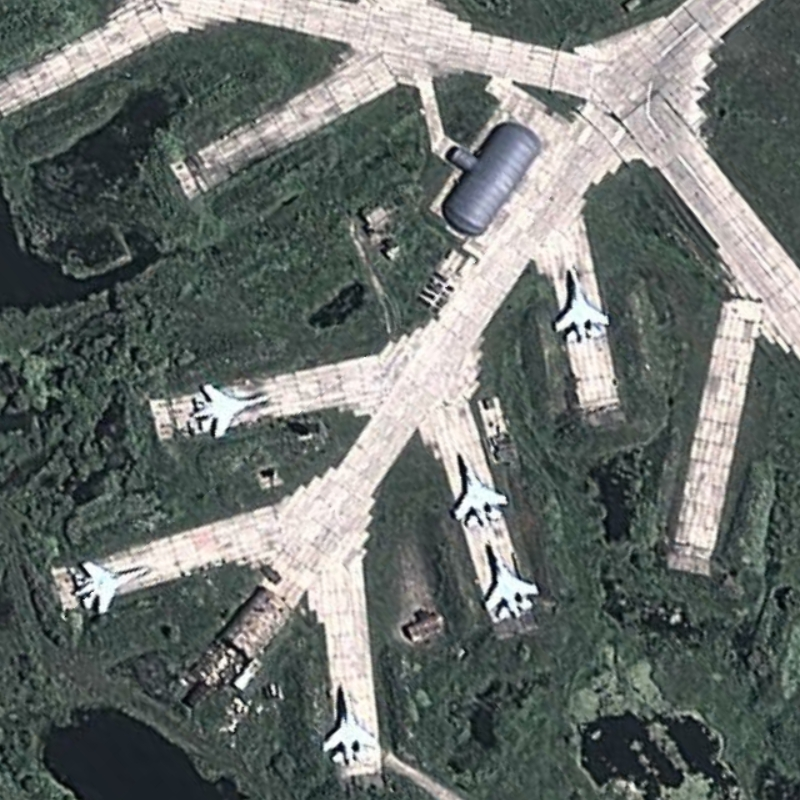A1: (546, 256, 614, 349), (443, 444, 515, 530), (315, 675, 379, 769), (182, 381, 273, 445), (66, 555, 154, 618), (480, 534, 543, 621)
